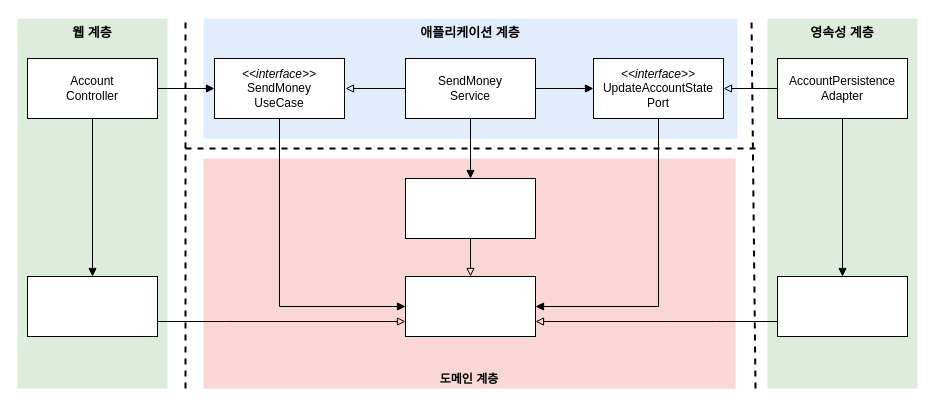
Some shapes in this 934 by 407 pixel diagram are drawn without their labels. Each missing label, with the centre of its shape:
"<<interface>> AccountState" goes at point (470, 306).
"Account" goes at point (470, 208).
"영속성 모델" goes at point (842, 306).
"웹 모델" goes at point (92, 306).
